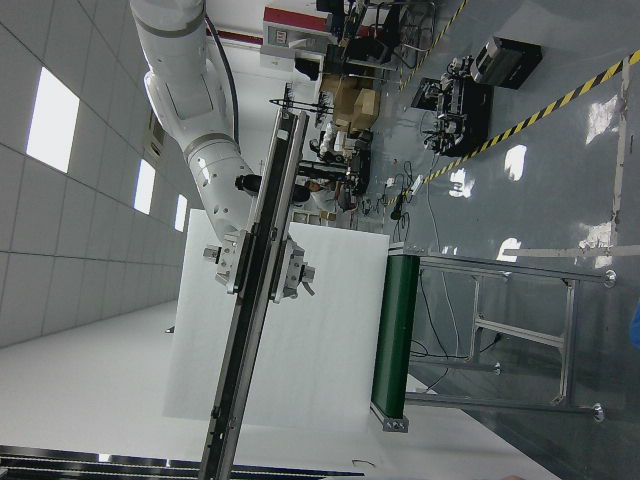left: (197, 106, 312, 479)
